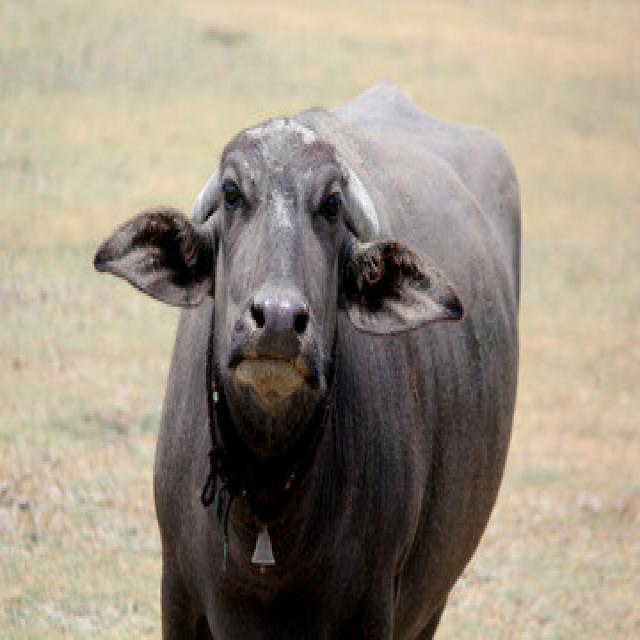Buffalo: (91, 75, 525, 637)
